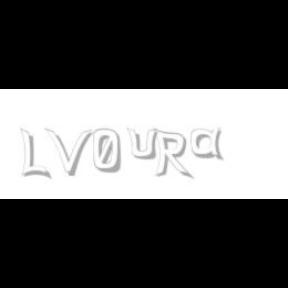0: (94, 128, 124, 174)
L: (20, 128, 48, 180)
R: (153, 128, 191, 180)
V: (45, 128, 93, 176)
a: (190, 128, 228, 160)
u: (126, 128, 162, 160)
